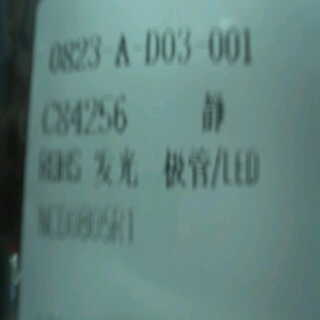LED: (87, 140, 275, 192)
